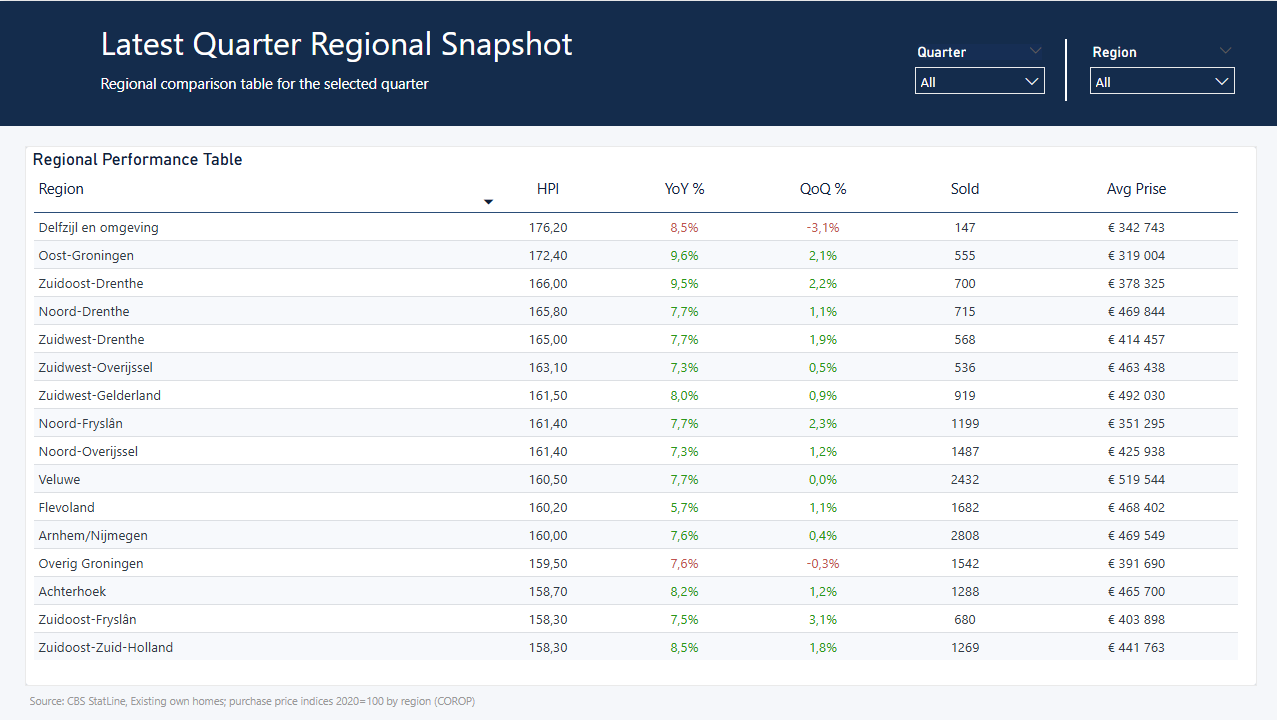

The dashboard page shown, as its layout file describes it:
{"tool":"powerbi","page":{"name":"Regional Performance Snapshot","canvas":[1280,720],"ordinal":1},"visuals":[{"type":"tableEx","title":"Regional Performance Table","fields":{"Values":["dim_region.region_name","fact_housing_market.Latest House Price Index","fact_housing_market.Latest YoY %","fact_housing_market.Latest QoQ %","fact_housing_market.Latest Sold Dwellings","fact_housing_market.Latest Average Purchase Price"]},"box":[25,145,1232,540],"z":0},{"type":"shape","box":[0,0,1280,125],"z":1000},{"type":"textbox","box":[95.8,14.4,619.9,71.9],"z":2000},{"type":"textbox","box":[95.8,67.1,700.4,38.3],"z":3000},{"type":"slicer","fields":{"Values":["dim_date.year_quarter"]},"box":[905,38,150,58],"z":4000},{"type":"slicer","fields":{"Values":["dim_region.region_name"]},"box":[1080,38,165,58],"z":5000},{"type":"shape","box":[1003.1,38.3,125.5,61.3],"z":6000},{"type":"textbox","box":[25,685,463,27],"z":6001}]}

Visuals, with their boxes in screenshot pixels (x1, y1, x2, y2), scaled from the page's 1280x720 canvas onto the 1277x720 screenshot:
"Regional Performance Table" tableEx: Rect(25, 145, 1254, 685)
shape: Rect(0, 0, 1276, 125)
textbox: Rect(96, 14, 714, 86)
textbox: Rect(96, 67, 794, 105)
slicer - dim_date.year_quarter: Rect(903, 38, 1053, 96)
slicer - dim_region.region_name: Rect(1077, 38, 1242, 96)
shape: Rect(1001, 38, 1126, 100)
textbox: Rect(25, 685, 487, 712)
